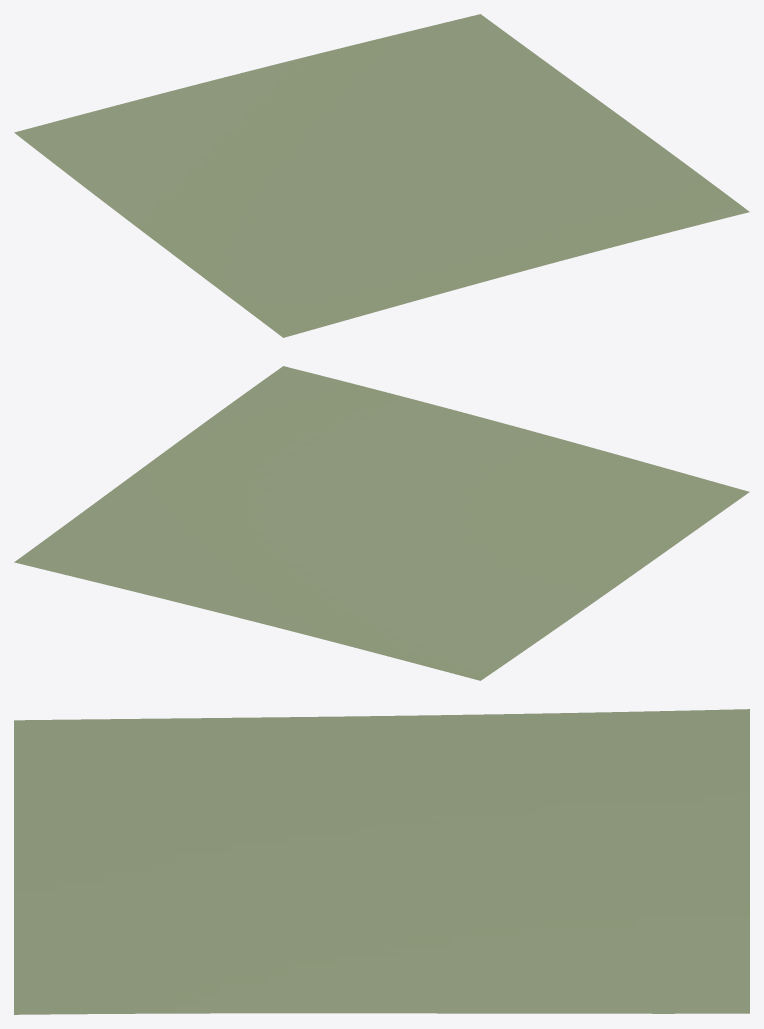
The model's file is expanse-7-2.glb.
3 views of the same model, one above another, from view 1: azimuth 30°, elevation 25°; view 2: azimuth 150°, elevation 25°; view 3: azimuth 270°, elevation 25° (orthographic). The views are drawn at different scales.
Parts seen in each view (by area): view 1: expanse-7-2; view 2: expanse-7-2; view 3: expanse-7-2.
Part boxes in pixels (x1=…): expanse-7-2: x1=14, y1=14, x2=749, y2=337; expanse-7-2: x1=14, y1=366, x2=749, y2=680; expanse-7-2: x1=14, y1=709, x2=749, y2=1014.
Size of the model in its own units: 256 by 6.9 by 256.
